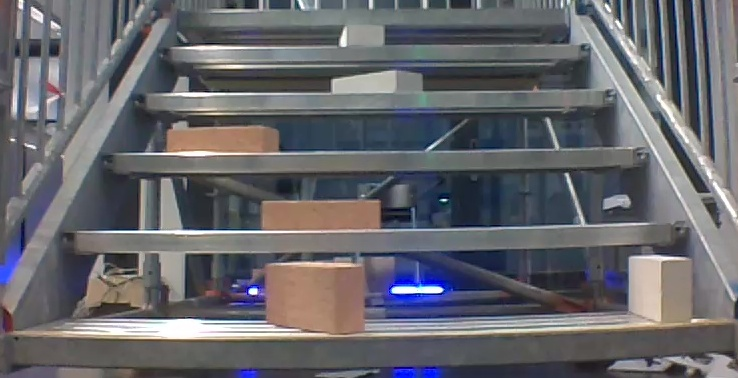brick: (265, 261, 364, 333), (628, 256, 692, 321), (260, 199, 379, 230), (167, 127, 277, 153), (332, 70, 422, 92), (339, 24, 385, 46)
edge: (8, 321, 737, 366), (63, 221, 694, 251), (102, 146, 651, 170), (135, 90, 617, 109), (160, 45, 592, 62), (178, 8, 569, 25)
